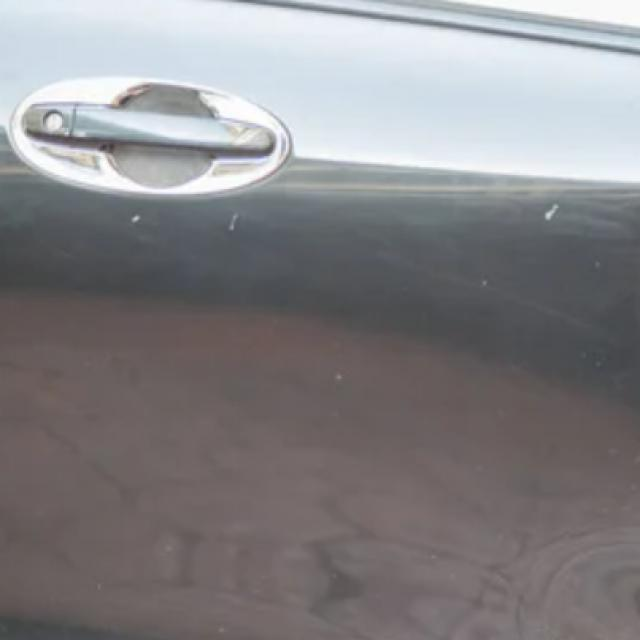dents: (121, 195, 199, 266), (516, 190, 591, 244), (463, 253, 520, 320), (325, 352, 375, 403), (214, 199, 251, 245)
